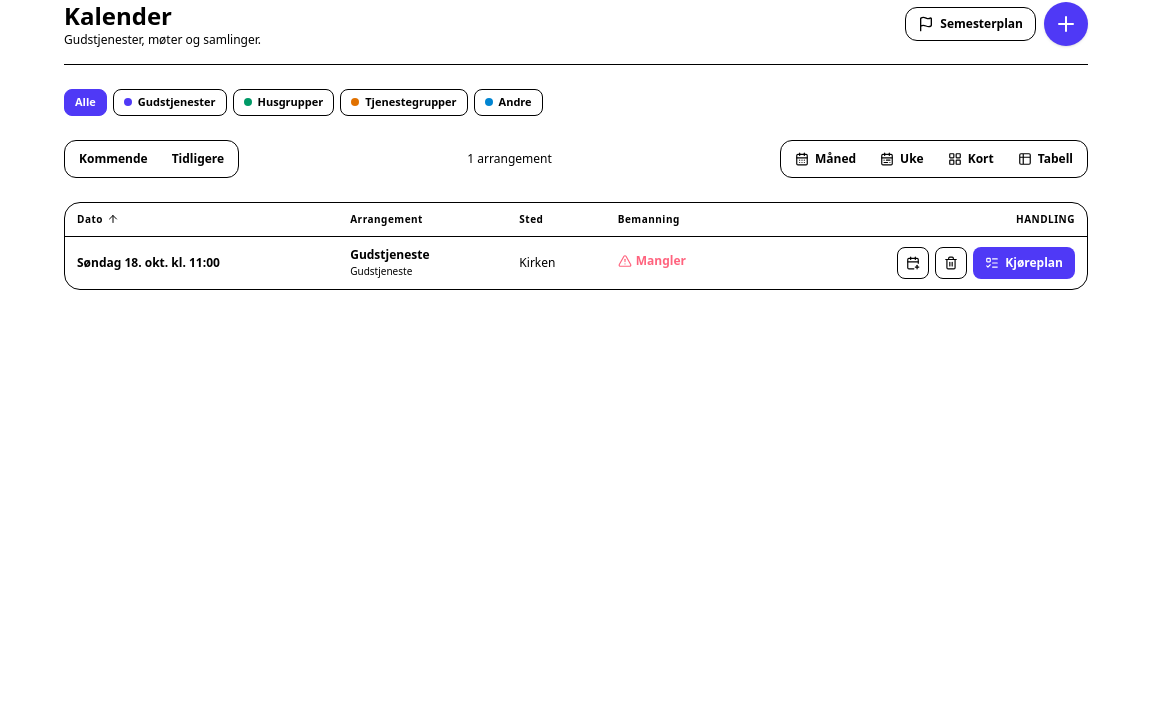
it: Arrangementer i admin › advarselen kommer også fra tabellen
Click the button "Kort" at x=971, y=158, box [936, 142, 1006, 174]
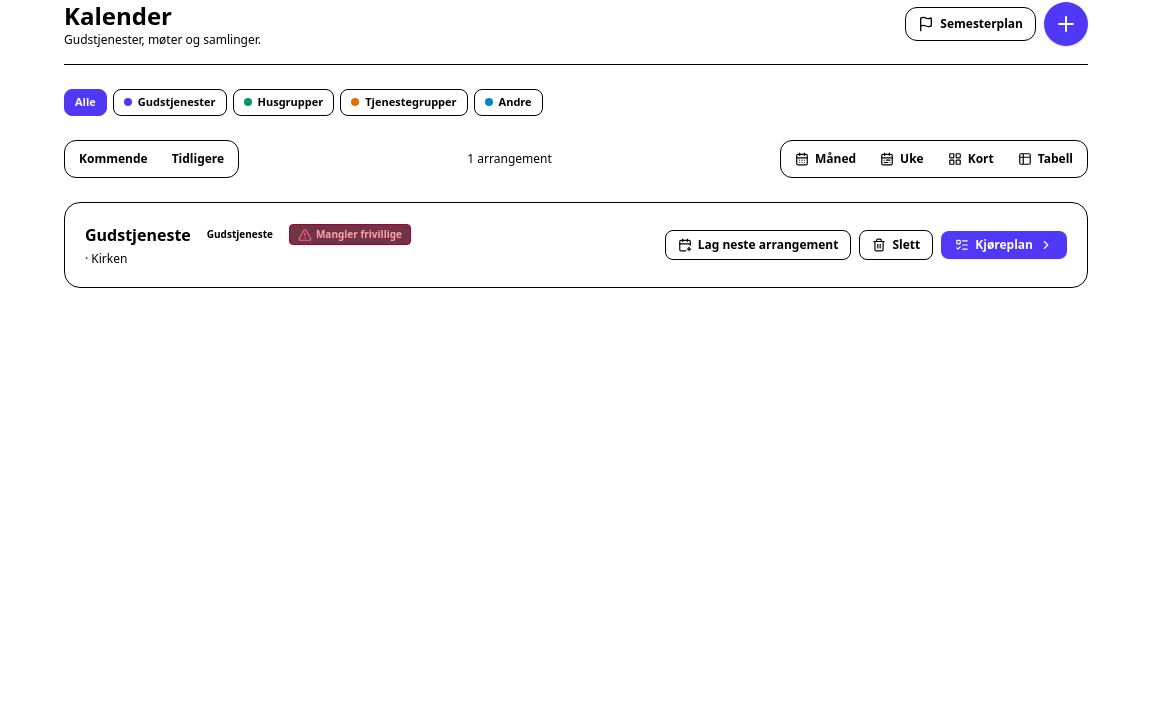
Click the button "Tabell" at x=1045, y=158, box [1006, 142, 1085, 174]
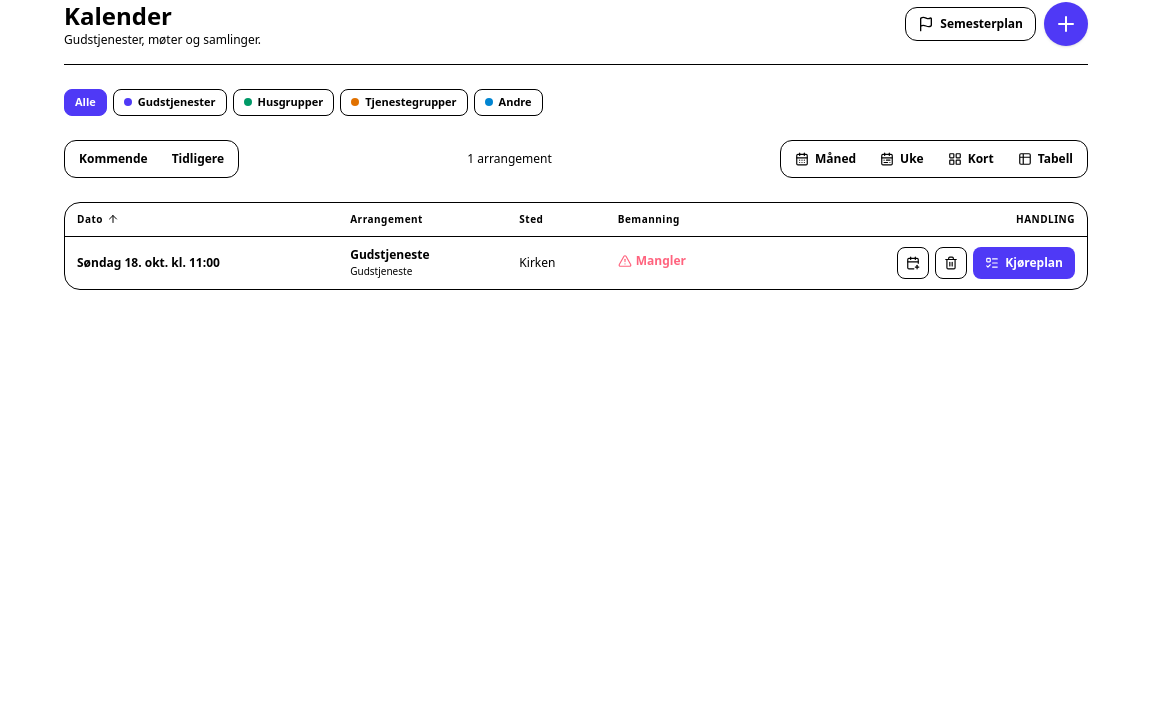
Click the button named "Slett Gudstjeneste" at x=951, y=263, box [935, 247, 967, 279]
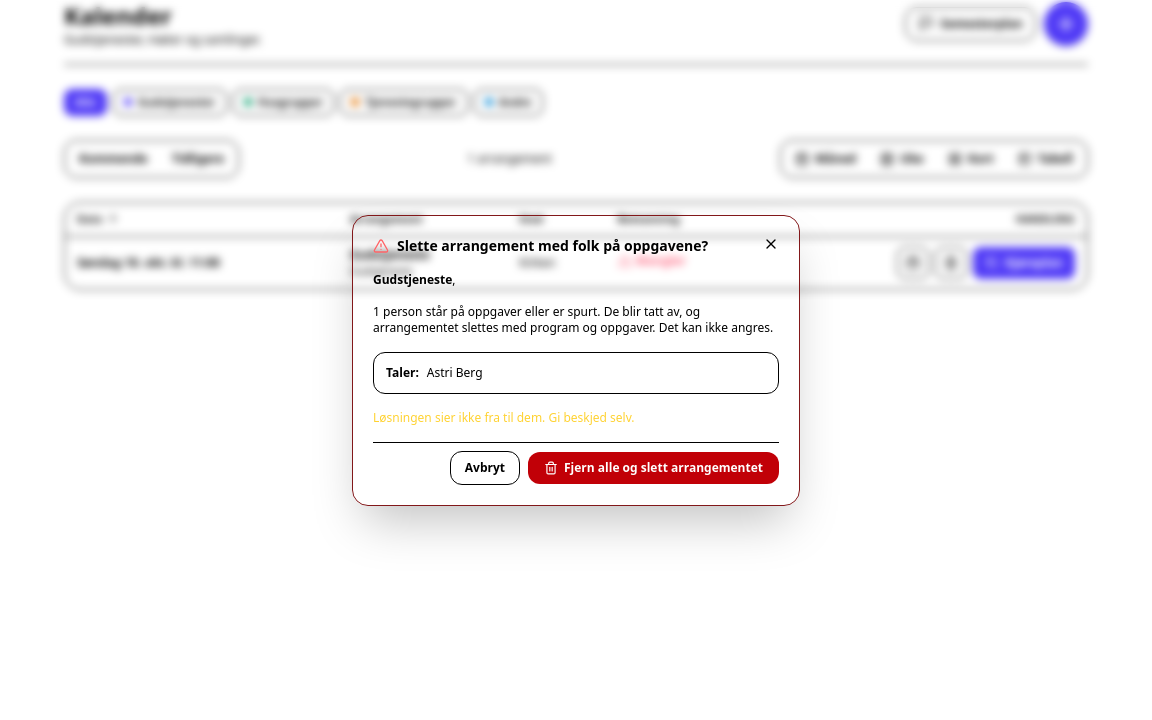
Result: the text "Astri Berg" is shown at [427, 364, 483, 380]
